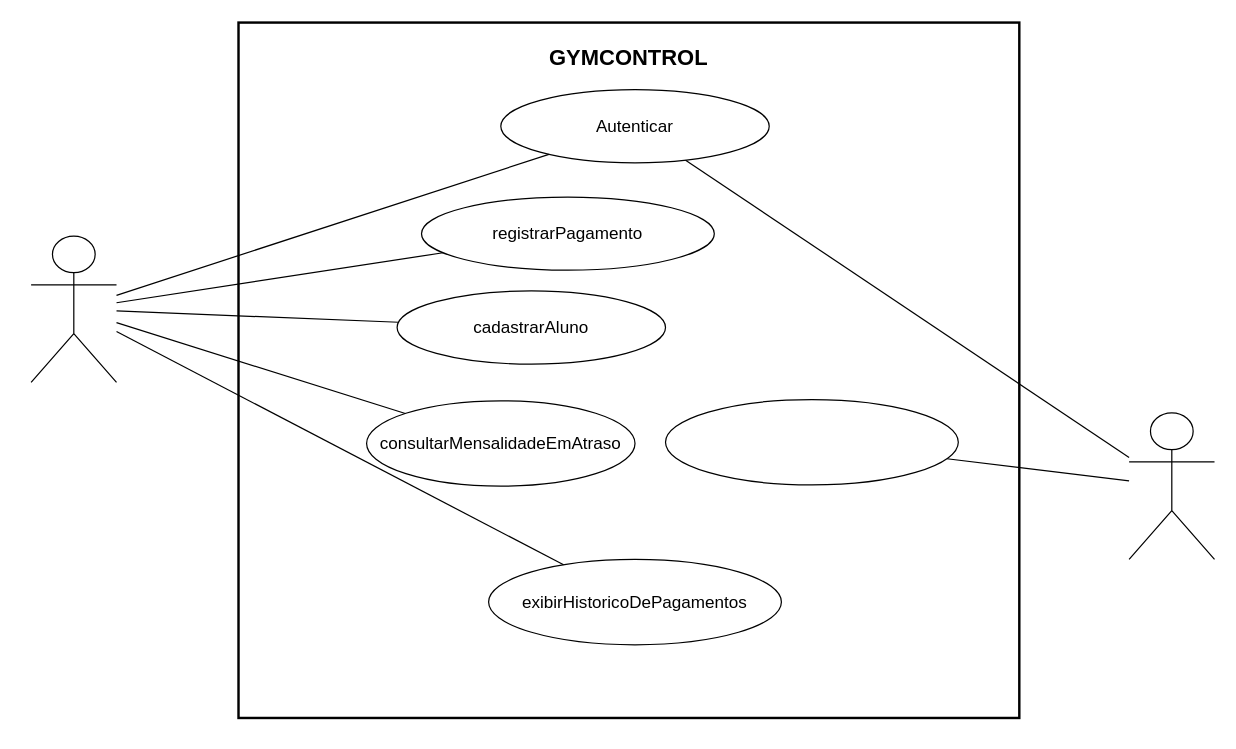
The diagram is 1236 pixels wide and 749 high, and some of its shapes have lost their labels. Here are the shapes that lost their labels. From the top down, the box of each, then its label:
(30, 235, 117, 382): Administrador
(664, 398, 958, 485): consultarMensalidade
(1128, 412, 1215, 559): Aluno
